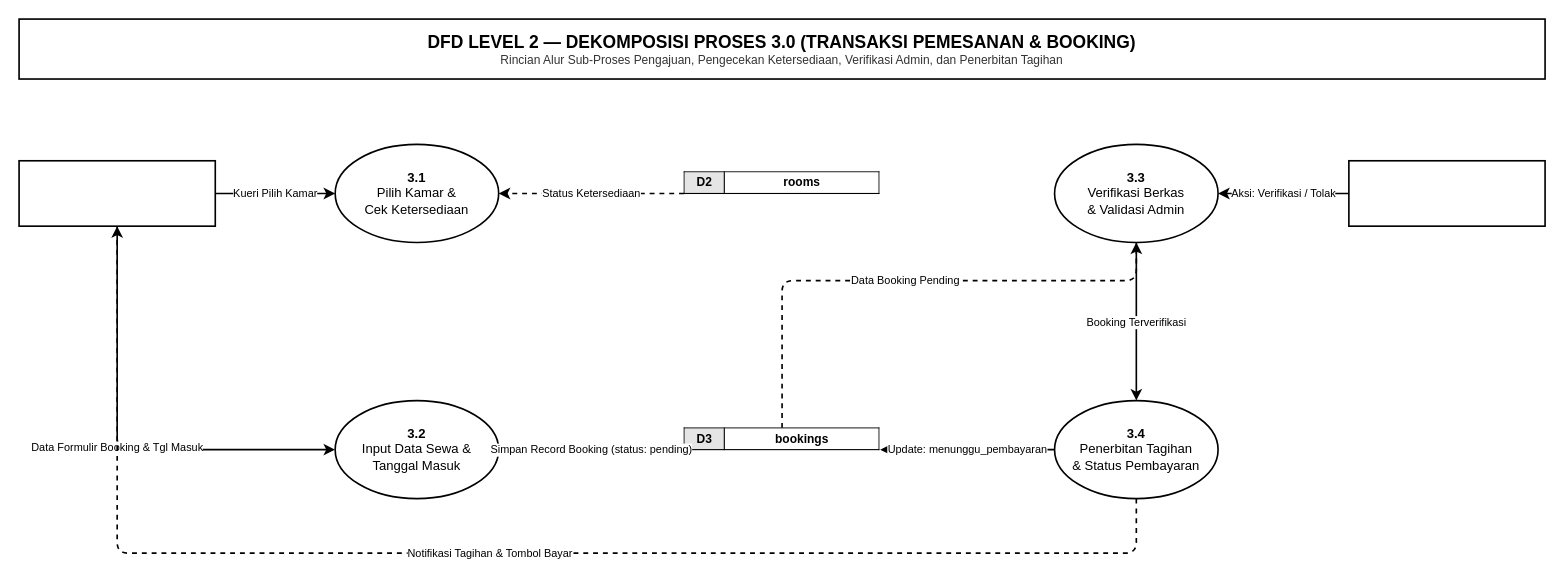
Some shapes in this 1565 by 582 pixel diagram are drawn without their labels. The shapes that lost their labels are listed below. From the top down, each one's box as (x1, y1, x2, y2) in pixels, then its label:
(18, 159, 216, 227): PENYEWA (CUSTOMER)
(1348, 159, 1545, 227): ADMINISTRATOR (ADMIN)
